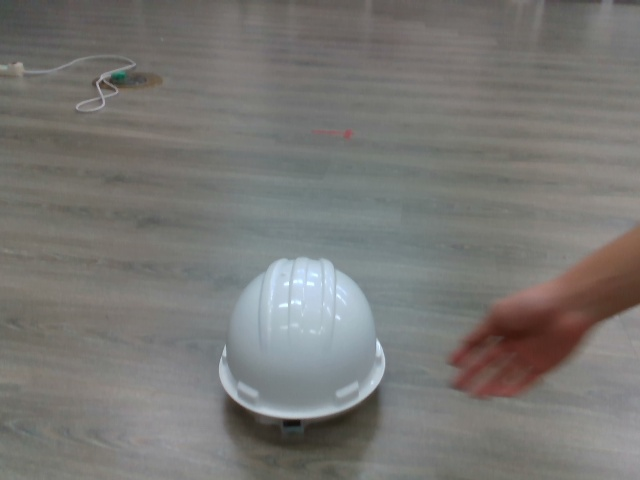helmet: (216, 254, 392, 438)
